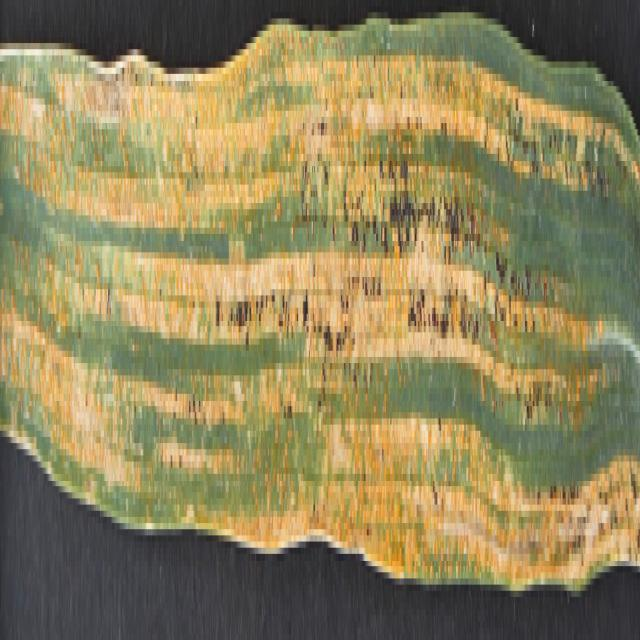leaf rust: (2, 37, 640, 597)
